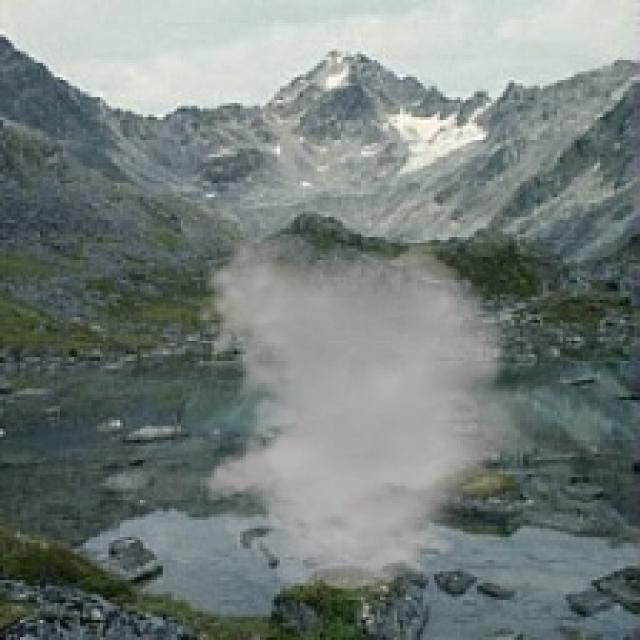smoke: (194, 234, 557, 589)
